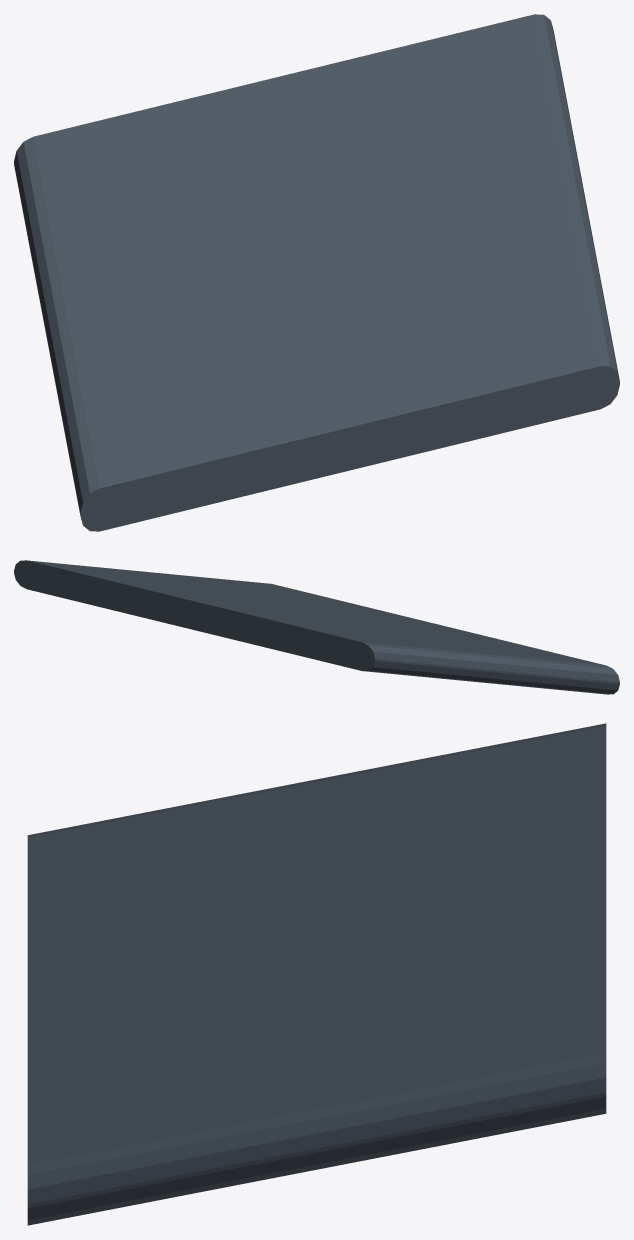
File: Spring_PadOff.gltf
3 renders of one model, top to bottom at view 1: azimuth 30°, elevation 25°; view 2: azimuth 150°, elevation 25°; view 3: azimuth 270°, elevation 25°, orthographic. The views are drawn at different scales.
Visible parts, largest first — view 1: Spring_PadOff_baked; view 2: Spring_PadOff_baked; view 3: Spring_PadOff_baked.
Boxes of the visible parts, x1,y1,x2,y2 form: Spring_PadOff_baked: [14, 14, 619, 531]; Spring_PadOff_baked: [14, 560, 619, 694]; Spring_PadOff_baked: [27, 723, 606, 1225].
Size of the model in its own units: 0.92 by 0.255 by 0.5.
